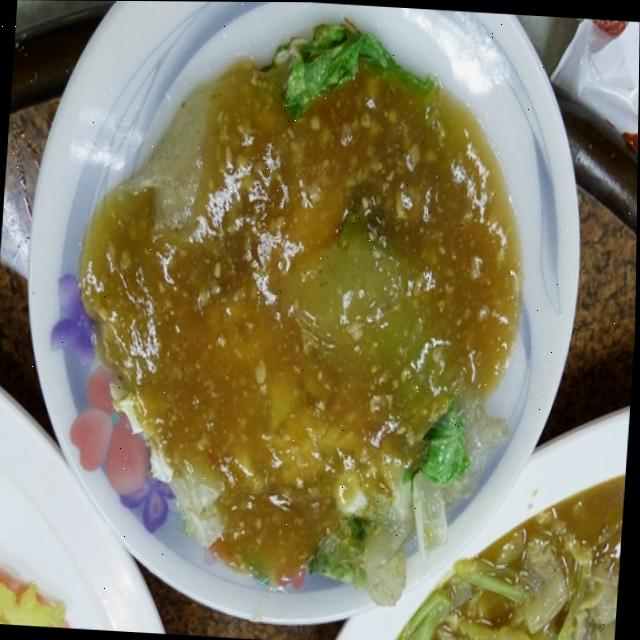熟制海鲜: (31, 0, 593, 630)
